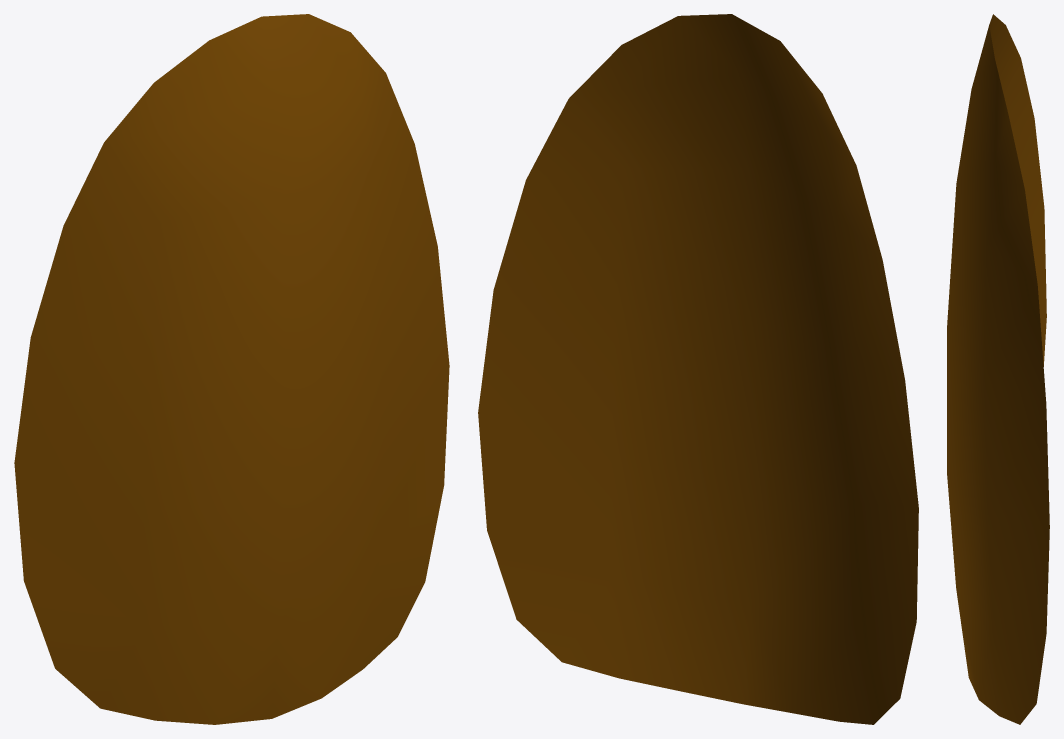
Rendered from MD_nail_oval_HandR.Thumb.fbx.
3 renders of one model, left to right at view 1: azimuth 30°, elevation 25°; view 2: azimuth 150°, elevation 25°; view 3: azimuth 270°, elevation 25°, orthographic. The views are drawn at different scales.
Visible parts, largest first — view 1: MD_nail_oval_HandR.Thumb; view 2: MD_nail_oval_HandR.Thumb; view 3: MD_nail_oval_HandR.Thumb.
Boxes of the visible parts, <box> form: MD_nail_oval_HandR.Thumb: <box>14,14,449,724</box>; MD_nail_oval_HandR.Thumb: <box>478,14,918,724</box>; MD_nail_oval_HandR.Thumb: <box>947,14,1049,724</box>.
Bounding box in the file's own units: 0.923 × 1.4 × 0.2.
